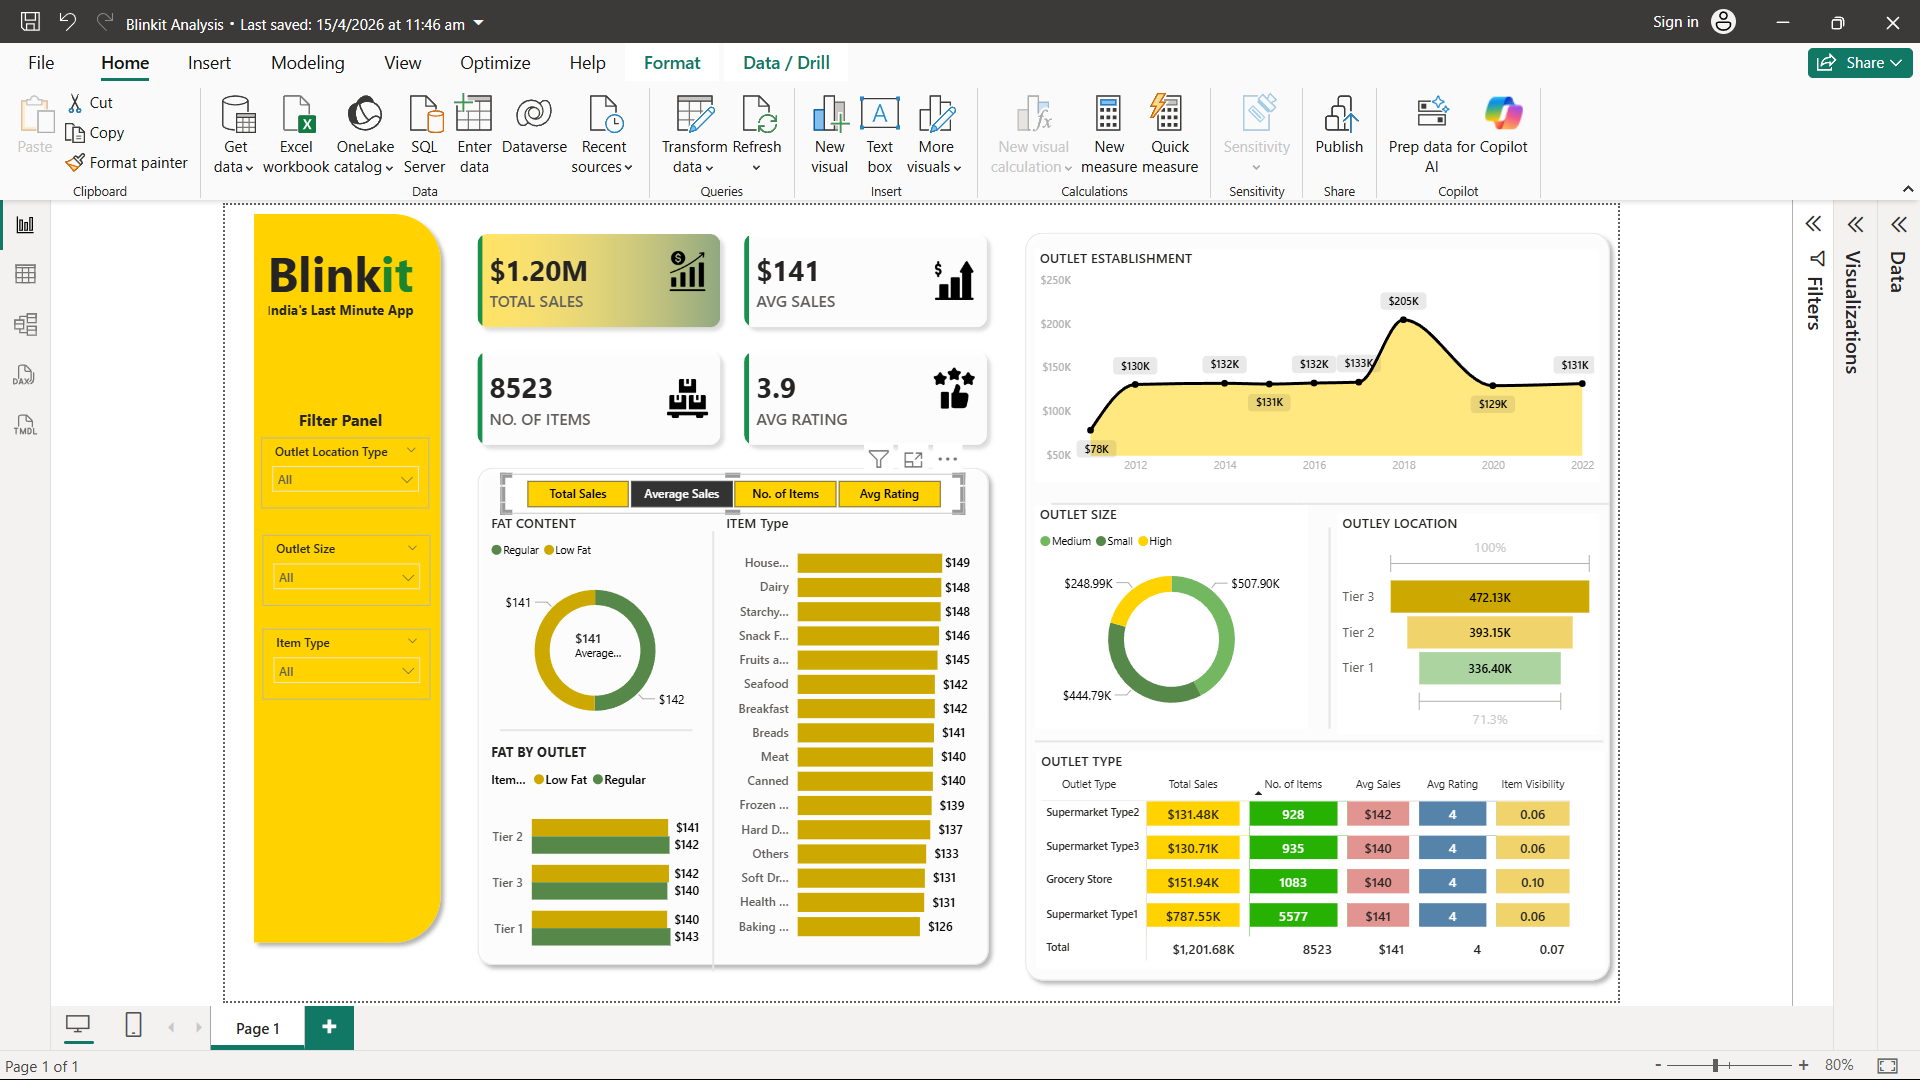

Layout of this report page (visuals, bound fields, positions):
{"tool":"powerbi","page":{"name":"Page 1","canvas":[1400,800],"ordinal":0},"visuals":[{"type":"shape","box":[19.5,0,205.6,750.4],"z":0},{"type":"textbox","box":[37.5,30,169.6,78],"z":1000},{"type":"textbox","box":[37.5,91.6,169.6,30],"z":2000},{"type":"cardVisual","fields":{"Data":["BlinkIT Grocery Data.Total Sales","BlinkIT Grocery Data.Average Sales","BlinkIT Grocery Data.No. of Items","BlinkIT Grocery Data.Avg Rating"]},"box":[225.1,0,570.3,270.2],"z":3000},{"type":"shape","box":[244.6,255.1,531.3,517.8],"z":4000},{"type":"donutChart","title":"FAT CONTENT","fields":{"Y":["BlinkIT Grocery Data.Total Sales"],"Category":["BlinkIT Grocery Data.Item Fat Content"]},"box":[262.7,310.7,219.1,229.6],"z":5000},{"type":"slicer","fields":{"Values":["Metrics.Metrics"]},"box":[277.7,270.2,465.3,40.5],"z":6000},{"type":"cardVisual","fields":{"Data":["BlinkIT Grocery Data.Total Sales"]},"box":[322.7,400.7,120.1,81],"z":7000},{"type":"clusteredBarChart","title":"FAT BY OUTLET","fields":{"Y":["BlinkIT Grocery Data.Total Sales"],"Category":["BlinkIT Grocery Data.Outlet Location Type"],"Series":["BlinkIT Grocery Data.Item Fat Content"]},"box":[262.7,540.3,219.1,229.6],"z":8000},{"type":"shape","box":[276,515.1,193.3,25.4],"z":9000},{"type":"shape","box":[1072.1,290,16.5,225.1],"z":10000},{"type":"barChart","title":"ITEM Type","fields":{"Y":["BlinkIT Grocery Data.Total Sales"],"Category":["BlinkIT Grocery Data.Item Type"]},"box":[498.3,310.7,255.1,439.8],"z":11000},{"type":"shape","box":[794.9,19.1,605.4,769.4],"z":12000},{"type":"lineChart","title":"OUTLET ESTABLISHMENT","fields":{"Y":["BlinkIT Grocery Data.Total Sales"],"Category":["BlinkIT Grocery Data.Outlet Establishment Year"]},"box":[814,44.5,567.2,235.3],"z":13000},{"type":"shape","box":[814,527.8,571,22.9],"z":14000},{"type":"donutChart","title":"OUTLET SIZE","fields":{"Y":["BlinkIT Grocery Data.Total Sales"],"Category":["BlinkIT Grocery Data.Outlet Size"]},"box":[814,301.4,274.7,225.1],"z":15000},{"type":"shape","box":[1100.1,324.3,19.1,202.2],"z":16000},{"type":"shape","box":[482,328.1,16.5,442.6],"z":17000},{"type":"funnel","title":"OUTLEY LOCATION","fields":{"Y":["Sum(BlinkIT Grocery Data.Sales)"],"Category":["BlinkIT Grocery Data.Outlet Location Type"]},"box":[1117.9,310.3,263.3,221.3],"z":18000},{"type":"shape","box":[830.3,288.5,560.9,22.9],"z":19000},{"type":"pivotTable","title":"OUTLET TYPE","fields":{"Values":["BlinkIT Grocery Data.Total Sales","BlinkIT Grocery Data.No. of Items","BlinkIT Grocery Data.Average Sales","BlinkIT Grocery Data.Avg Rating","Avg(BlinkIT Grocery Data.Item Visibility)"],"Rows":["BlinkIT Grocery Data.Outlet Type"]},"box":[815.2,549.4,571,218.8],"z":20000},{"type":"slicer","fields":{"Values":["BlinkIT Grocery Data.Outlet Location Type"]},"box":[36.9,234,169.2,71.2],"z":21000},{"type":"slicer","fields":{"Values":["BlinkIT Grocery Data.Outlet Size"]},"box":[38.2,331.9,169.2,71.2],"z":22000},{"type":"slicer","fields":{"Values":["BlinkIT Grocery Data.Item Type"]},"box":[38.2,426.1,169.2,71.2],"z":23000},{"type":"textbox","box":[68.7,199.7,106.8,34.3],"z":24000}]}

Visuals, with their boxes on the page's 1400x800 design canvas (x1, y1, x2, y2). These are canvas units, not pixel positions in the 1920x1080 screenshot, which may show the page scaled, cropped or inside an application window:
shape: {"left": 20, "top": 0, "right": 225, "bottom": 750}
textbox: {"left": 38, "top": 30, "right": 207, "bottom": 108}
textbox: {"left": 38, "top": 92, "right": 207, "bottom": 122}
cardVisual - BlinkIT Grocery Data.Total Sales x BlinkIT Grocery Data.Average Sales: {"left": 225, "top": 0, "right": 795, "bottom": 270}
shape: {"left": 245, "top": 255, "right": 776, "bottom": 773}
"FAT CONTENT" donutChart: {"left": 263, "top": 311, "right": 482, "bottom": 540}
slicer - Metrics.Metrics: {"left": 278, "top": 270, "right": 743, "bottom": 311}
cardVisual - BlinkIT Grocery Data.Total Sales: {"left": 323, "top": 401, "right": 443, "bottom": 482}
"FAT BY OUTLET" clusteredBarChart: {"left": 263, "top": 540, "right": 482, "bottom": 770}
shape: {"left": 276, "top": 515, "right": 469, "bottom": 540}
shape: {"left": 1072, "top": 290, "right": 1089, "bottom": 515}
"ITEM Type" barChart: {"left": 498, "top": 311, "right": 753, "bottom": 750}
shape: {"left": 795, "top": 19, "right": 1400, "bottom": 788}
"OUTLET ESTABLISHMENT" lineChart: {"left": 814, "top": 44, "right": 1381, "bottom": 280}
shape: {"left": 814, "top": 528, "right": 1385, "bottom": 551}
"OUTLET SIZE" donutChart: {"left": 814, "top": 301, "right": 1089, "bottom": 526}
shape: {"left": 1100, "top": 324, "right": 1119, "bottom": 526}
shape: {"left": 482, "top": 328, "right": 498, "bottom": 771}
"OUTLEY LOCATION" funnel: {"left": 1118, "top": 310, "right": 1381, "bottom": 532}
shape: {"left": 830, "top": 288, "right": 1391, "bottom": 311}
"OUTLET TYPE" pivotTable: {"left": 815, "top": 549, "right": 1386, "bottom": 768}
slicer - BlinkIT Grocery Data.Outlet Location Type: {"left": 37, "top": 234, "right": 206, "bottom": 305}
slicer - BlinkIT Grocery Data.Outlet Size: {"left": 38, "top": 332, "right": 207, "bottom": 403}
slicer - BlinkIT Grocery Data.Item Type: {"left": 38, "top": 426, "right": 207, "bottom": 497}
textbox: {"left": 69, "top": 200, "right": 176, "bottom": 234}
